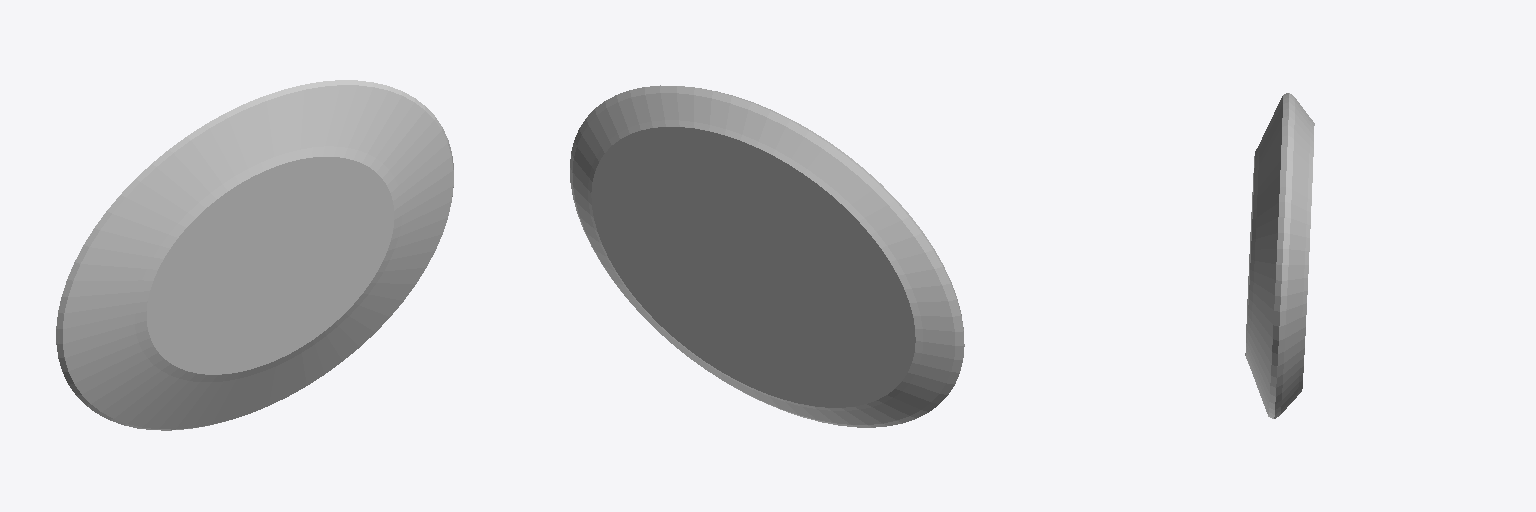
Rendered from Sapphire.obj.
3 views of the same model, side by side, from view 1: azimuth 30°, elevation 25°; view 2: azimuth 150°, elevation 25°; view 3: azimuth 270°, elevation 25° (orthographic).
Parts seen in each view (by area): view 1: Cylinder_Cylinder.003; view 2: Cylinder_Cylinder.003; view 3: Cylinder_Cylinder.003.
Part boxes in pixels (x1,y1,x2,y2): Cylinder_Cylinder.003: (56, 80, 453, 430); Cylinder_Cylinder.003: (570, 85, 964, 427); Cylinder_Cylinder.003: (1245, 93, 1314, 418).
Size of the model in its own units: 43.26 by 32.49 by 6.53.